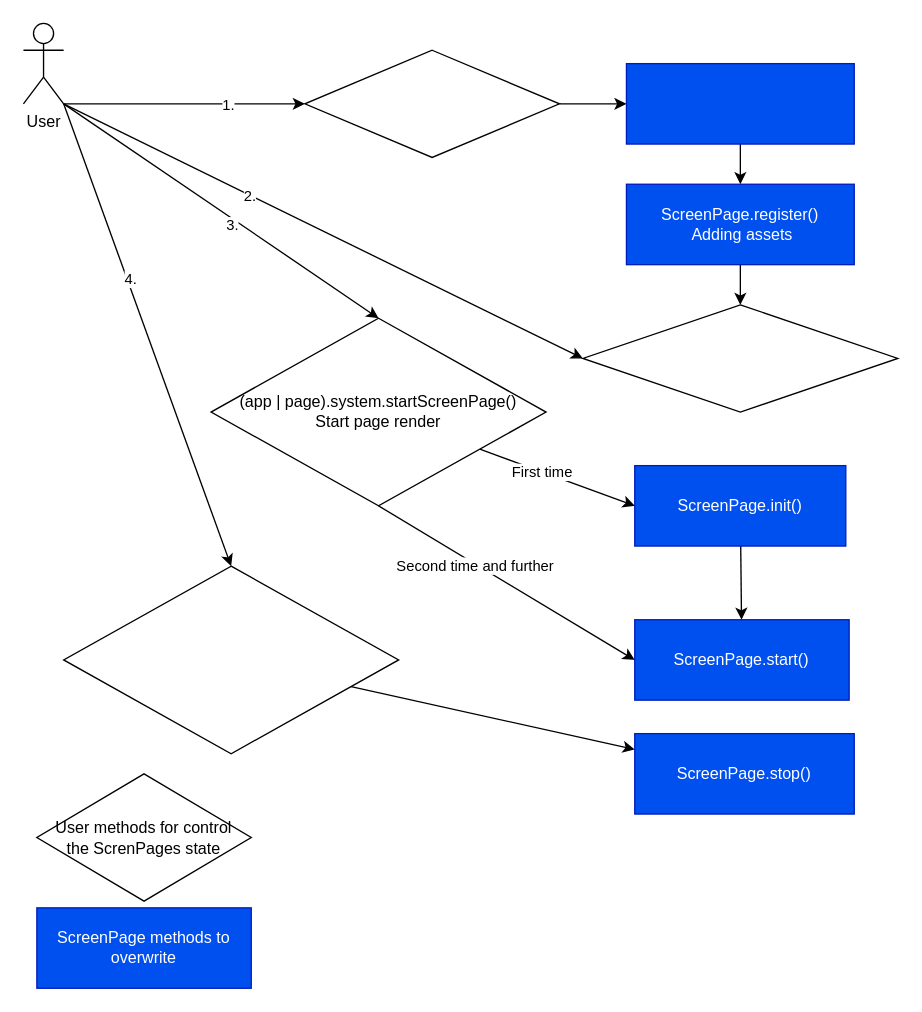
The diagram is 922 pixels wide and 1012 high, and some of its shapes have lost their labels. Each missing label, with the centre of its shape:
(app | page).system.stopScreenPage() Stop page render: [230,659]
app.preloadAllData() Loading assets: [740,358]
app.regsterPage(): [431,103]
ScreenPage.constructor(): [739,103]
